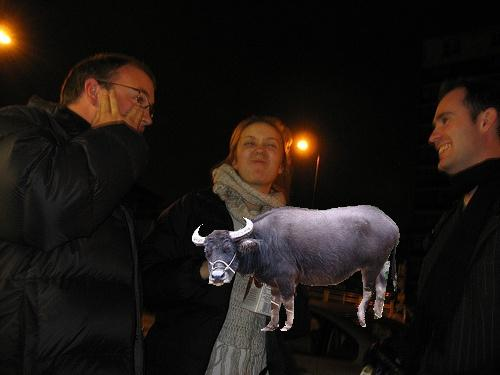tampered: (193, 206, 400, 331)
